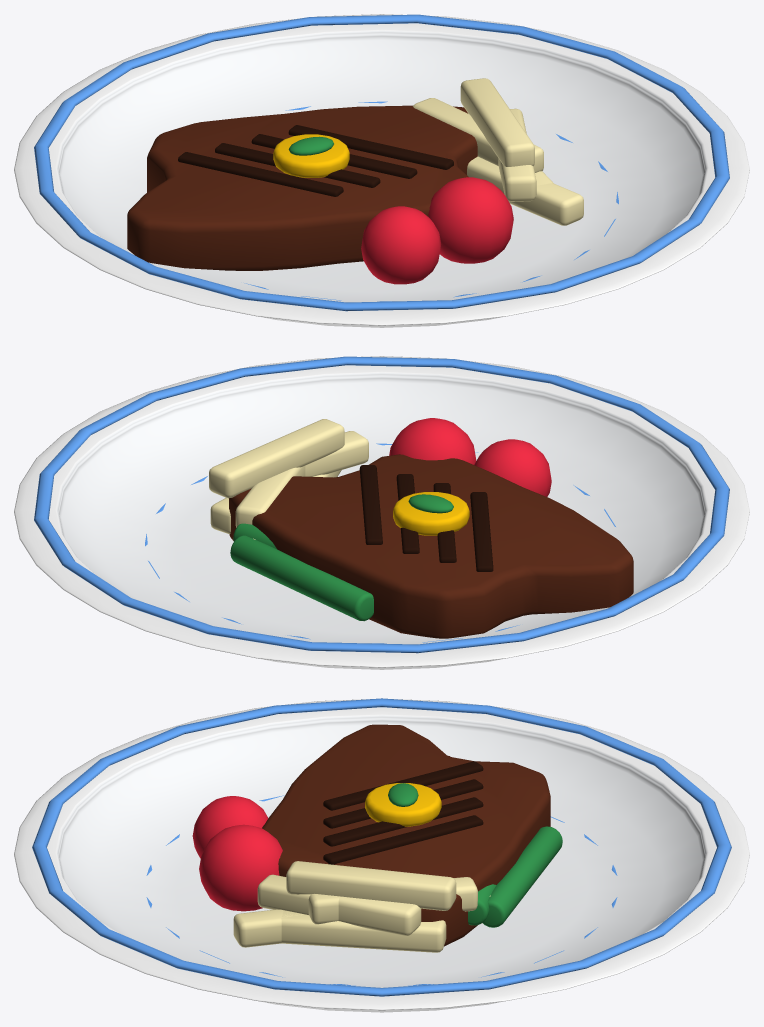
Rendered from food_dinner.gltf.
3 views of the same model, one above another, from view 1: azimuth 30°, elevation 25°; view 2: azimuth 150°, elevation 25°; view 3: azimuth 270°, elevation 25° (orthographic).
Parts seen in each view (by area): view 1: PlateBody; view 2: PlateBody; view 3: PlateBody.
Boxes of the visible parts, x1,y1,x2,y2 form: PlateBody: (14, 14, 749, 327); PlateBody: (14, 356, 749, 669); PlateBody: (14, 698, 749, 1012).
Size of the model in its own units: 0.6919 by 0.0993 by 0.6919.
